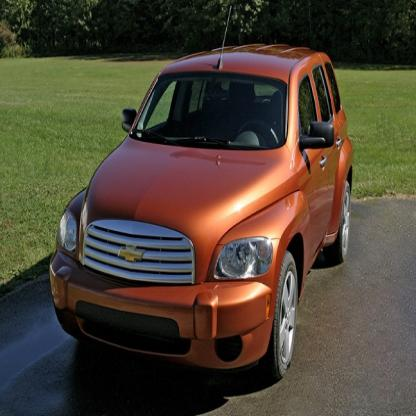Vehicle: (45, 42, 356, 383)
